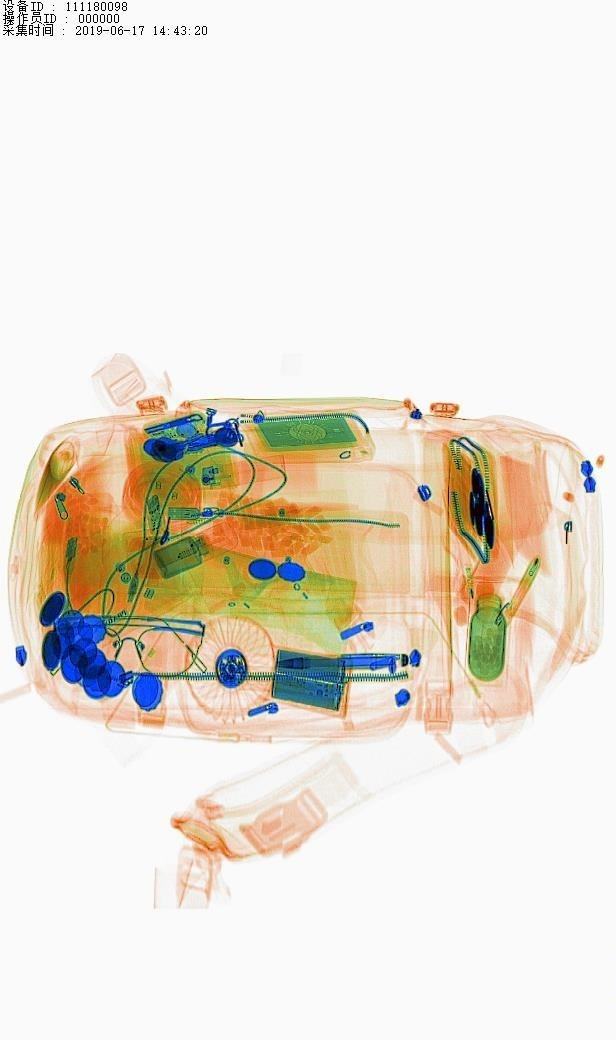NonmetallicFire: (195, 448, 304, 498)
